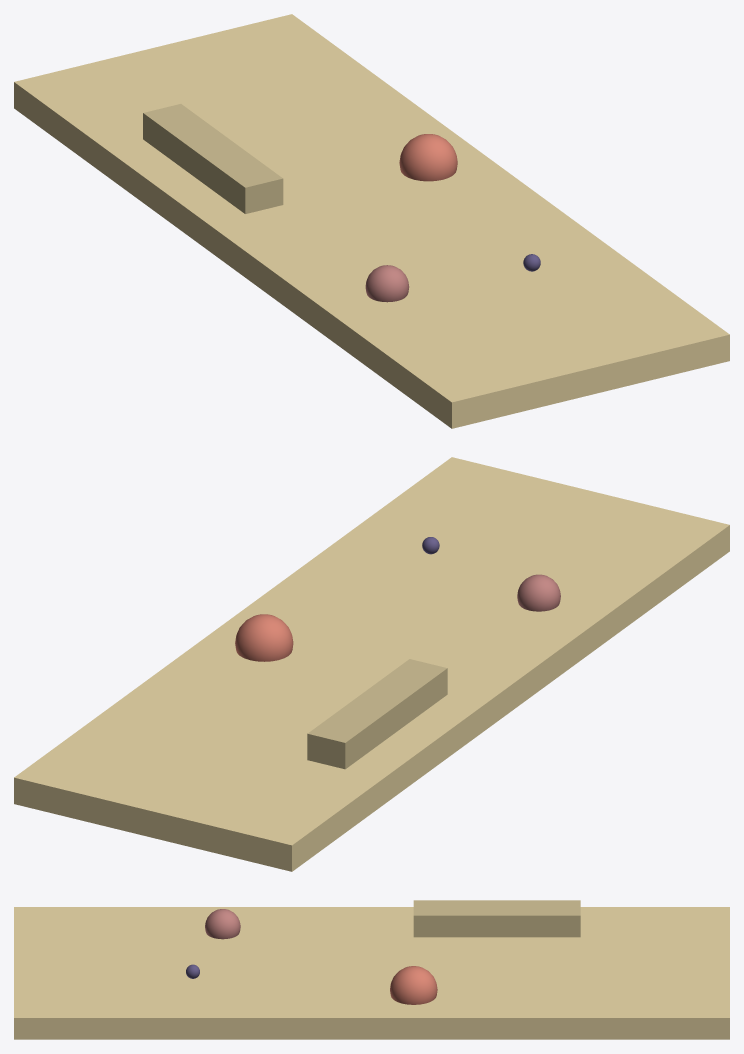
The model's file is sunlit-shoals.collision.glb.
3 views of the same model, one above another, from view 1: azimuth 30°, elevation 25°; view 2: azimuth 150°, elevation 25°; view 3: azimuth 270°, elevation 25° (orthographic). The views are drawn at different scales.
Parts seen in each view (by area): view 1: sand-bed, west-ledge, coral-mound-east, coral-mound-west; view 2: sand-bed, west-ledge, coral-mound-east, coral-mound-west; view 3: sand-bed, west-ledge, coral-mound-east, coral-mound-west.
Boxes of the visible parts, x1,y1,x2,y2 form: sand-bed: [14, 14, 729, 428]; west-ledge: [143, 104, 283, 213]; coral-mound-east: [399, 134, 457, 181]; coral-mound-west: [365, 265, 409, 302]; sand-bed: [14, 457, 729, 871]; west-ledge: [307, 659, 447, 769]; coral-mound-east: [235, 614, 293, 661]; coral-mound-west: [517, 574, 560, 611]; sand-bed: [14, 907, 729, 1039]; west-ledge: [413, 900, 580, 937]; coral-mound-east: [390, 966, 437, 1004]; coral-mound-west: [205, 909, 240, 939].
Bounding box in the file's own units: 44 × 9 × 120.
